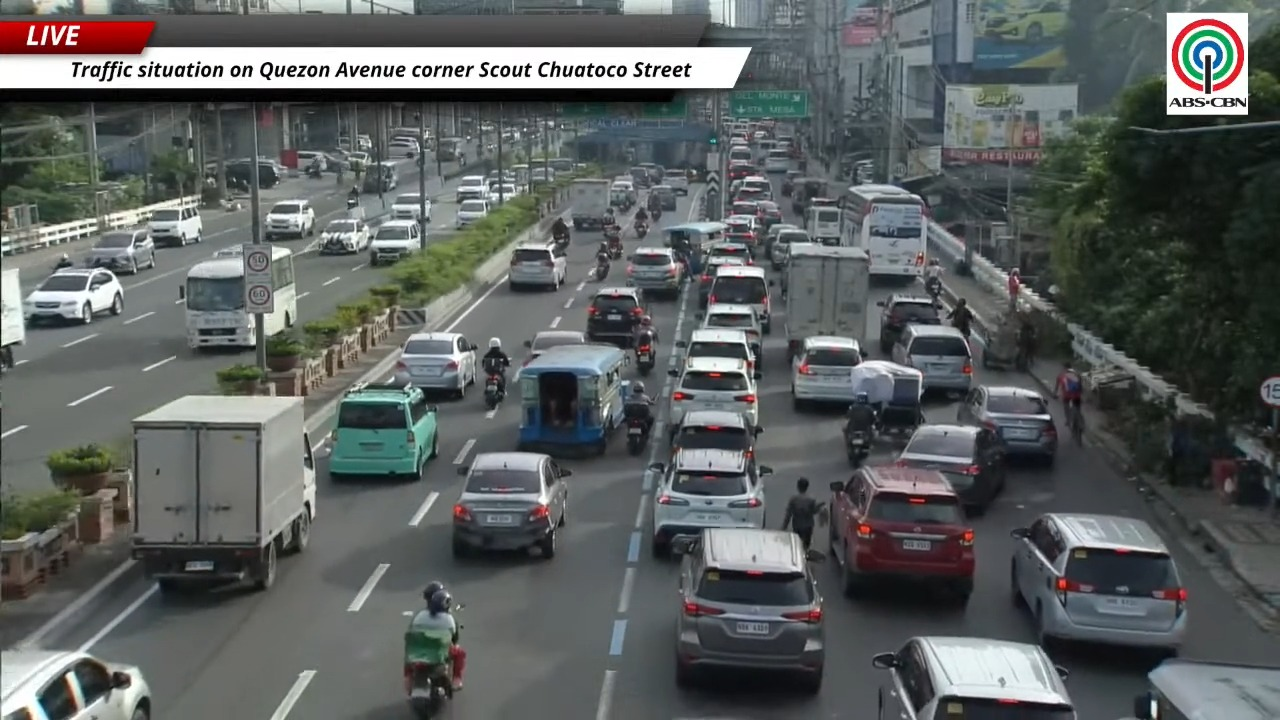bus: (841, 184, 928, 277), (183, 246, 256, 349)
car: (673, 528, 824, 694), (1011, 513, 1186, 654), (828, 466, 975, 604), (872, 636, 1077, 719), (648, 448, 771, 557), (452, 452, 571, 558), (0, 649, 152, 719), (329, 382, 437, 480), (897, 423, 1006, 515), (957, 385, 1057, 461), (667, 357, 759, 427), (890, 324, 973, 394), (23, 268, 123, 323), (394, 332, 477, 398), (791, 335, 863, 408), (696, 302, 762, 369), (670, 410, 762, 458), (708, 265, 772, 333), (877, 293, 941, 353), (980, 0, 1067, 43), (586, 287, 647, 346), (675, 328, 756, 371), (698, 245, 749, 307), (87, 228, 155, 273), (626, 246, 683, 296), (508, 241, 566, 290), (369, 220, 420, 265), (263, 199, 316, 241), (523, 330, 586, 364), (147, 208, 202, 246), (318, 219, 369, 254), (770, 227, 811, 269), (764, 222, 802, 258), (724, 214, 760, 252), (391, 193, 431, 222), (455, 199, 492, 229), (704, 241, 751, 264), (730, 180, 766, 206), (455, 175, 487, 203), (756, 200, 782, 231), (488, 182, 520, 205), (649, 185, 677, 211), (296, 150, 329, 172), (387, 137, 421, 158), (763, 147, 790, 173), (742, 174, 771, 198), (664, 172, 689, 196), (347, 143, 370, 169), (726, 161, 755, 181), (485, 169, 516, 186), (730, 200, 758, 216)
motorcycle: (406, 663, 453, 719), (846, 430, 873, 467), (627, 417, 648, 455), (483, 372, 504, 409), (635, 345, 654, 375), (607, 235, 624, 259), (924, 277, 941, 301), (553, 228, 570, 249), (594, 258, 609, 281), (603, 225, 620, 242), (633, 221, 648, 238), (53, 259, 74, 271), (307, 164, 323, 179), (650, 207, 662, 222), (346, 195, 358, 210)
truck: (131, 395, 316, 592), (784, 243, 869, 355), (0, 268, 24, 370), (569, 178, 611, 229)
